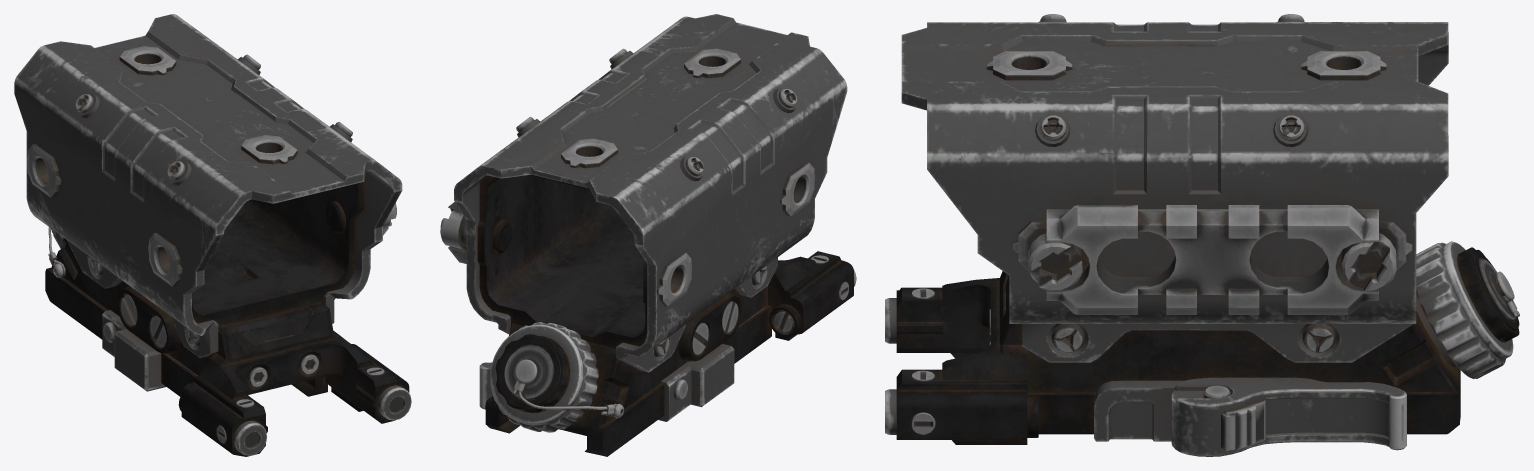
The model's file is Sight_10_t.glb.
The picture shows the model from 3 angles, left to right: view 1: azimuth 30°, elevation 25°; view 2: azimuth 150°, elevation 25°; view 3: azimuth 270°, elevation 25°; orthographic projection. The views are drawn at different scales.
Parts seen in each view (by area): view 1: Sight_10; view 2: Sight_10; view 3: Sight_10.
Part boxes in pixels (box(x1,y1,x2,y2)): Sight_10: box(14, 14, 411, 456); Sight_10: box(440, 14, 856, 456); Sight_10: box(885, 14, 1519, 456).
Bounding box in the file's own units: 0.056 × 0.063 × 0.1052.
1 material, 1 textured.
